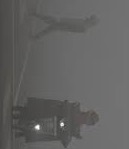person: (13, 98, 99, 142), (25, 9, 98, 40)
